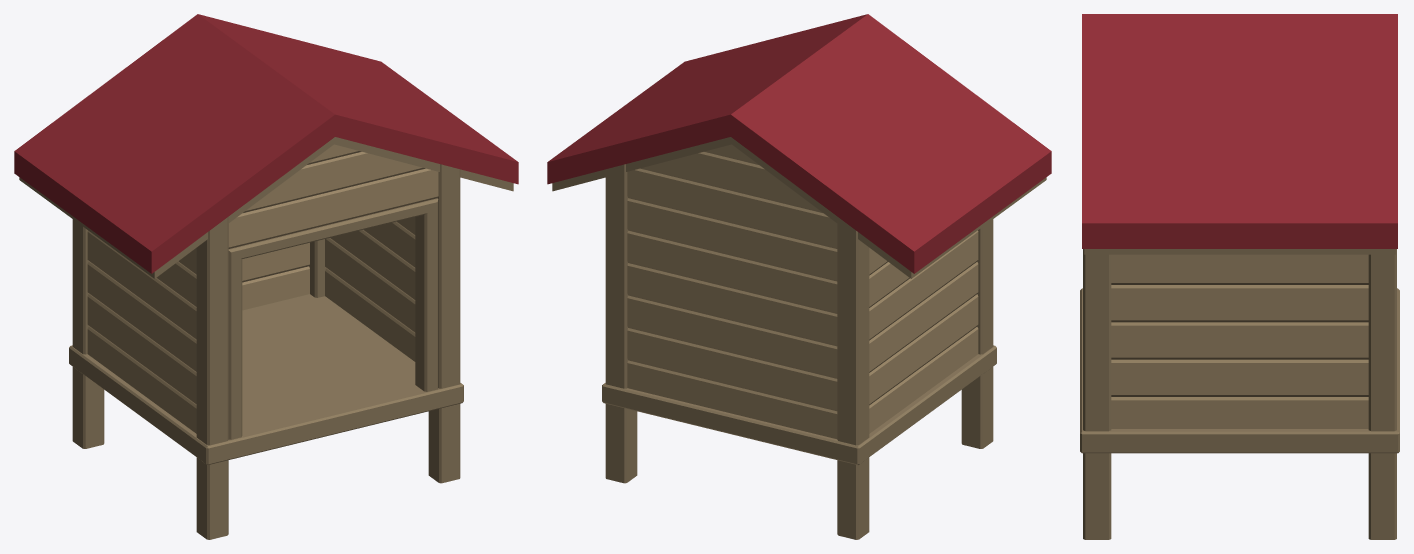
The model's file is Birdhouse.fbx.
3 views of the same model, side by side, from view 1: azimuth 30°, elevation 25°; view 2: azimuth 150°, elevation 25°; view 3: azimuth 270°, elevation 25° (orthographic). The views are drawn at different scales.
Parts seen in each view (by area): view 1: Plane.001; view 2: Plane.001; view 3: Plane.001.
Part boxes in pixels (left/top/right/bottom): Plane.001: left=14, top=14, right=518, bottom=539; Plane.001: left=547, top=14, right=1051, bottom=539; Plane.001: left=1080, top=14, right=1399, bottom=539.
Bounding box in the file's own units: 798 × 822 × 524.
